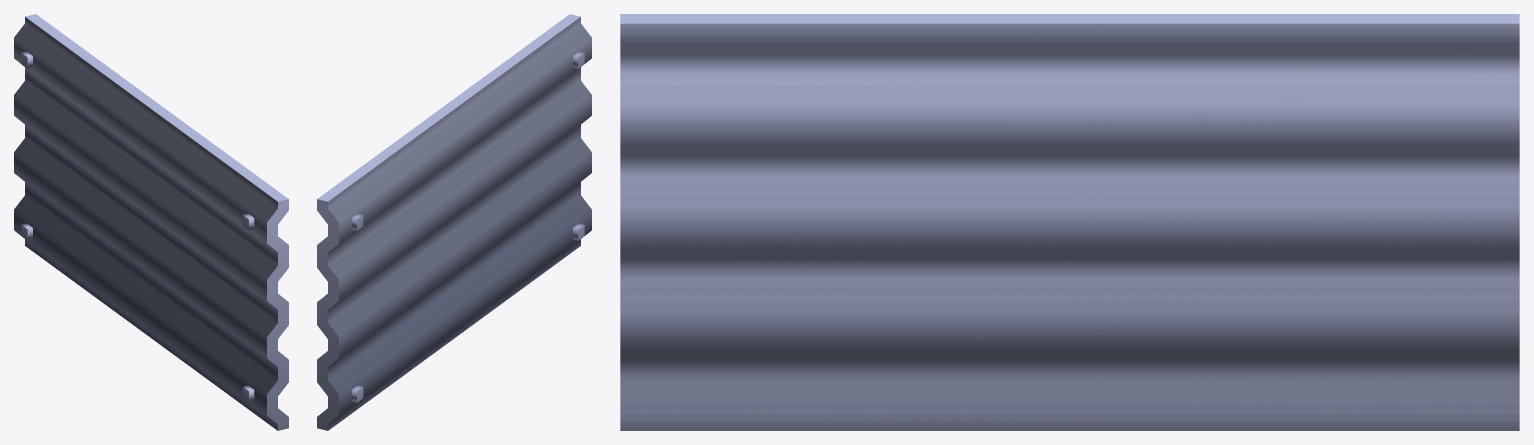
Rendered from plating-detailed-wide.glb.
The picture shows the model from 3 angles, left to right: view 1: azimuth 30°, elevation 25°; view 2: azimuth 150°, elevation 25°; view 3: azimuth 270°, elevation 25°; orthographic projection. The views are drawn at different scales.
Parts seen in each view (by area): view 1: plating-detailed-wide; view 2: plating-detailed-wide; view 3: plating-detailed-wide.
Boxes of the visible parts, x1,y1,x2,y2 form: plating-detailed-wide: [14, 14, 288, 430]; plating-detailed-wide: [317, 14, 591, 430]; plating-detailed-wide: [620, 14, 1519, 430].
Size of the model in its own units: 0.125 by 1 by 2.
1 material, 1 textured.
